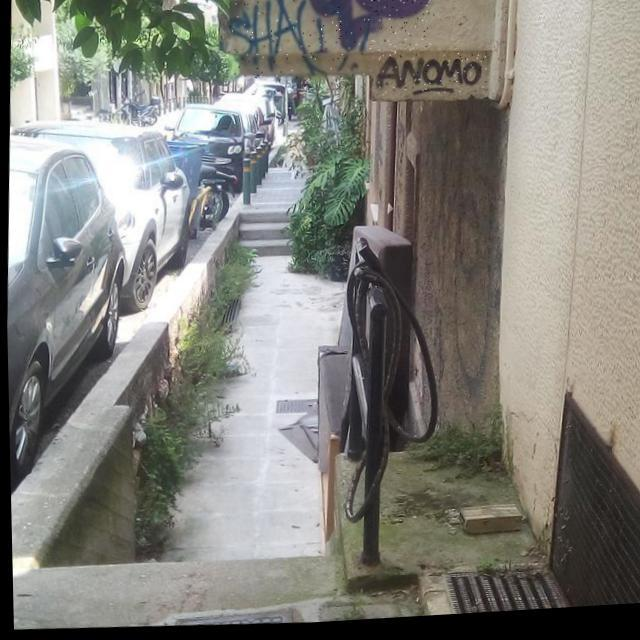-: (226, 0, 370, 88), (302, 0, 435, 63), (376, 53, 486, 103)
